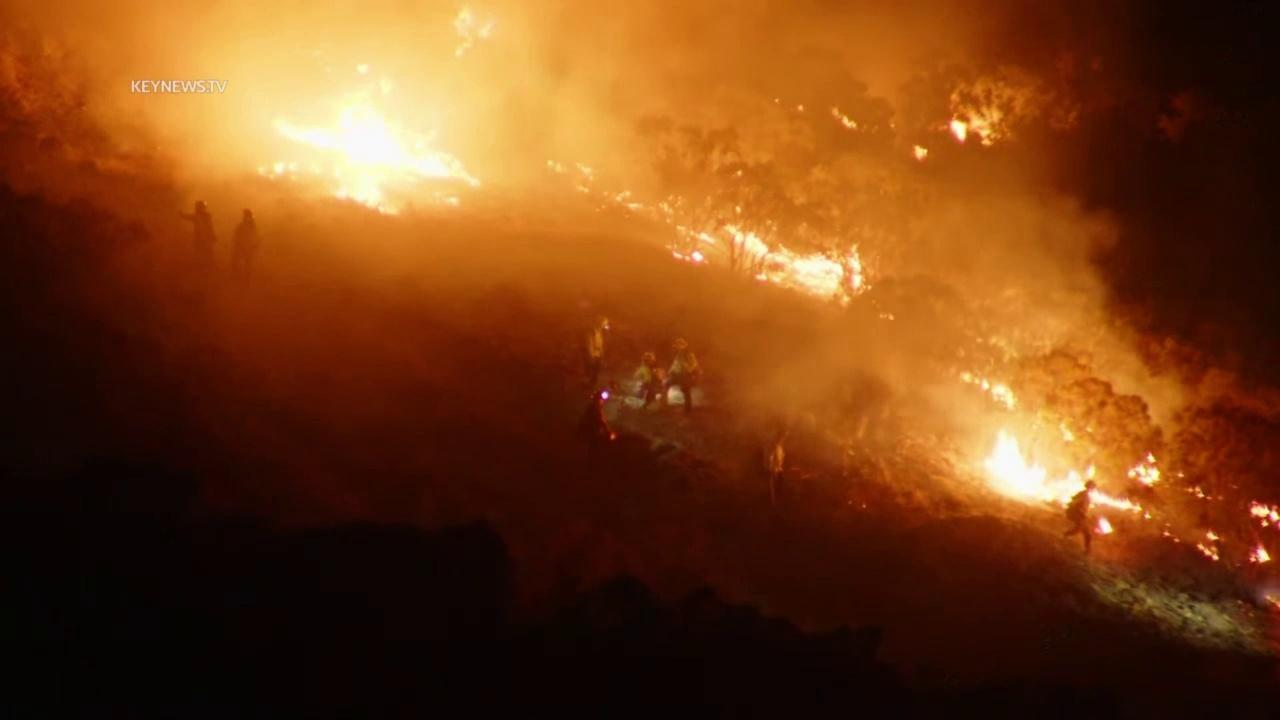fire: (255, 50, 485, 221), (981, 415, 1145, 515), (723, 221, 874, 302), (573, 154, 645, 217), (449, 7, 499, 59), (958, 367, 1017, 410), (1128, 453, 1162, 488), (1246, 498, 1280, 529), (1196, 527, 1223, 563), (830, 105, 861, 131), (679, 224, 718, 244), (1247, 542, 1273, 566), (948, 119, 972, 144), (670, 250, 705, 265), (975, 126, 999, 146), (1183, 486, 1207, 501), (545, 158, 566, 175), (1262, 591, 1280, 610), (913, 145, 930, 162), (1161, 529, 1180, 544), (734, 167, 745, 180)
smoke: (0, 0, 1280, 635)
